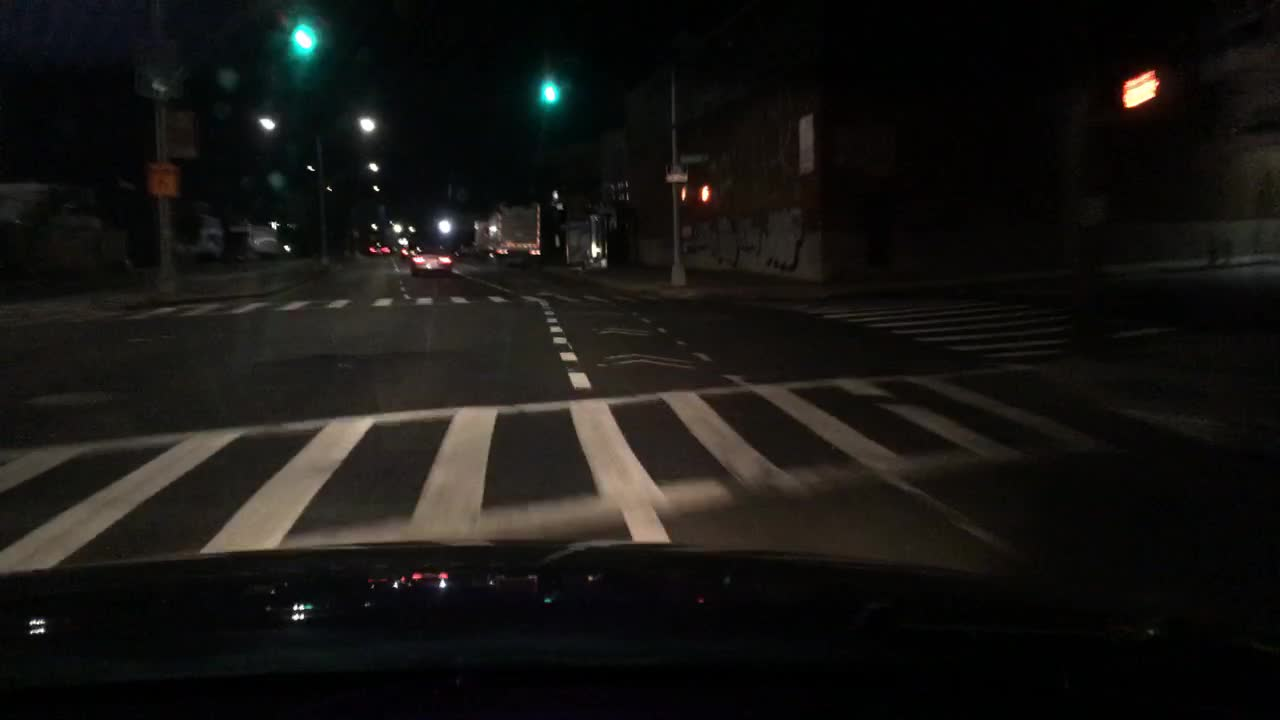car: (407, 244, 454, 277), (367, 239, 391, 257), (399, 242, 419, 259)
person: (1204, 232, 1217, 264), (1222, 234, 1234, 264)
traffic light: (293, 20, 313, 61), (540, 76, 560, 109), (698, 183, 711, 205), (676, 187, 688, 202)
traffic sign: (137, 66, 181, 103), (166, 111, 198, 160), (1122, 71, 1157, 106), (146, 163, 179, 195), (135, 37, 176, 61), (679, 153, 713, 165), (663, 172, 688, 183)
truck: (488, 203, 542, 266), (174, 211, 228, 260), (231, 218, 280, 258), (468, 215, 488, 257)
